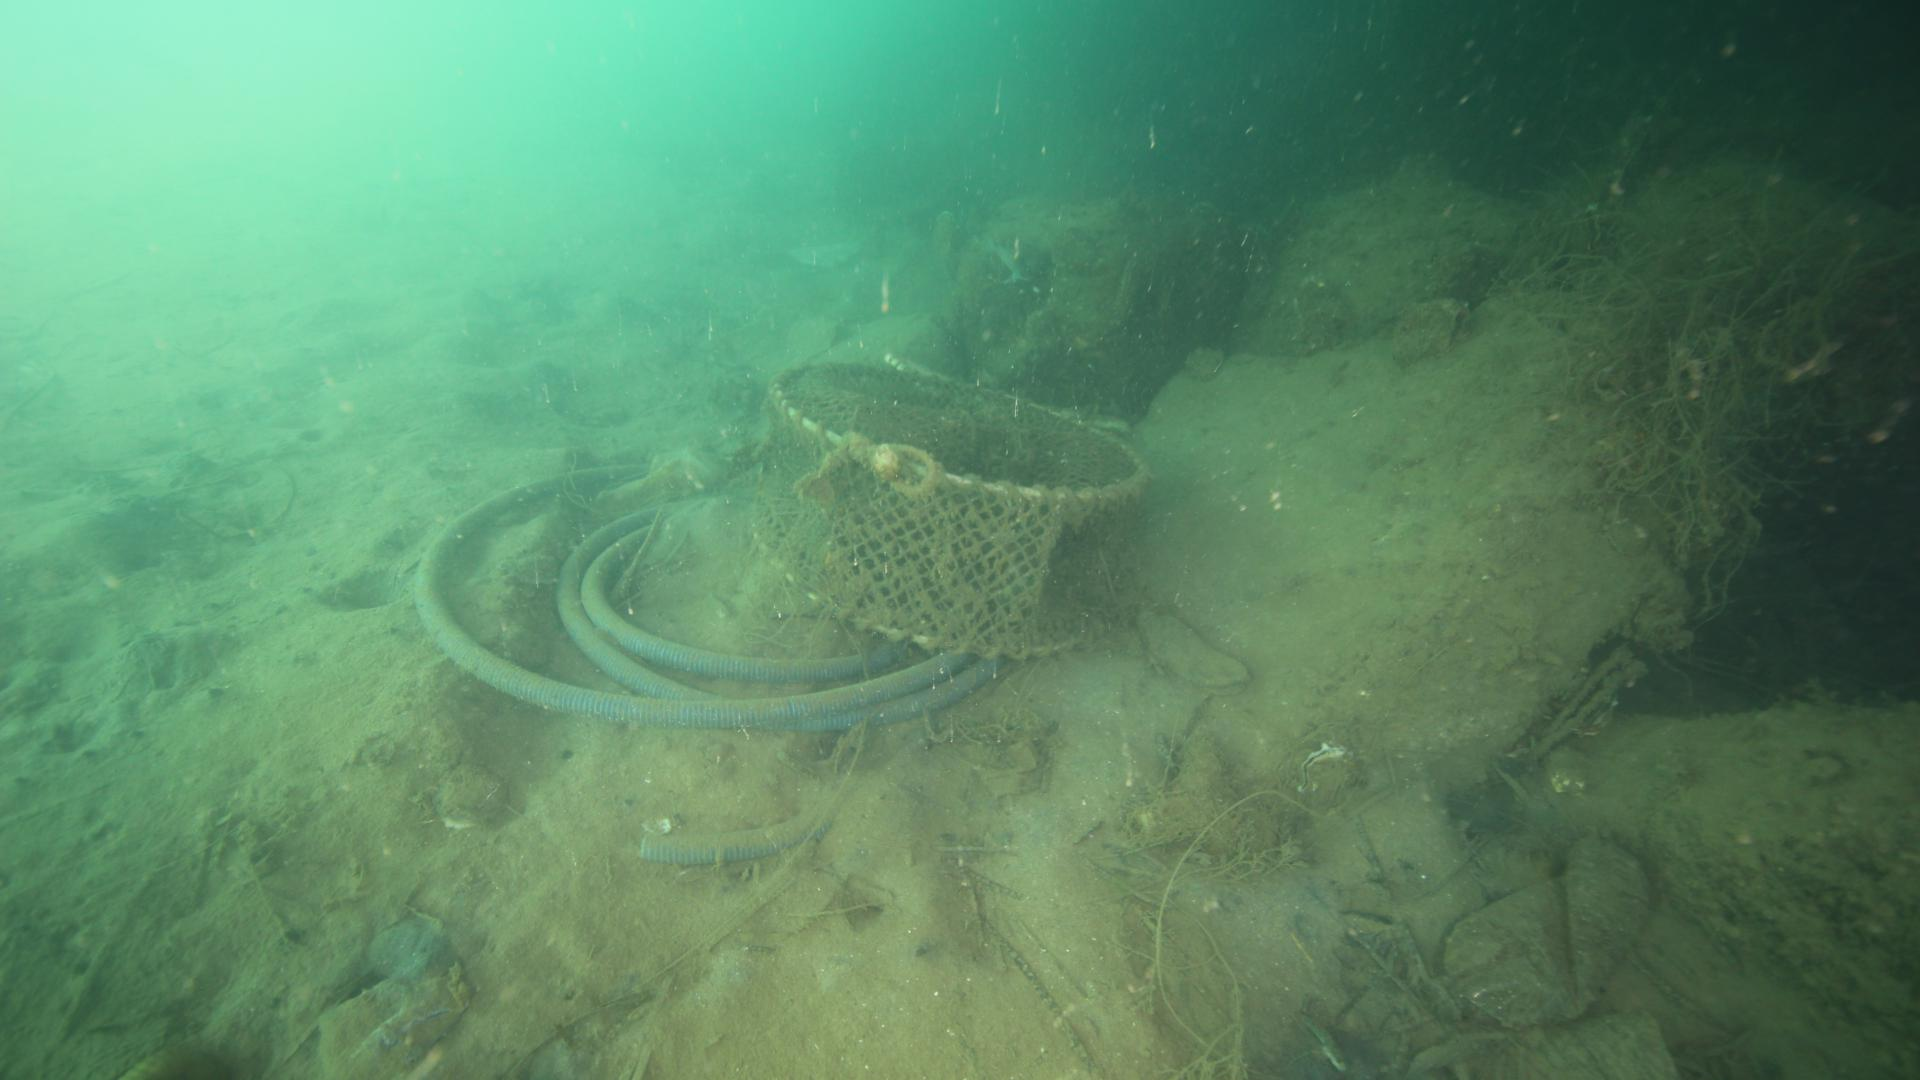circular fish trap: (746, 338, 1153, 669)
